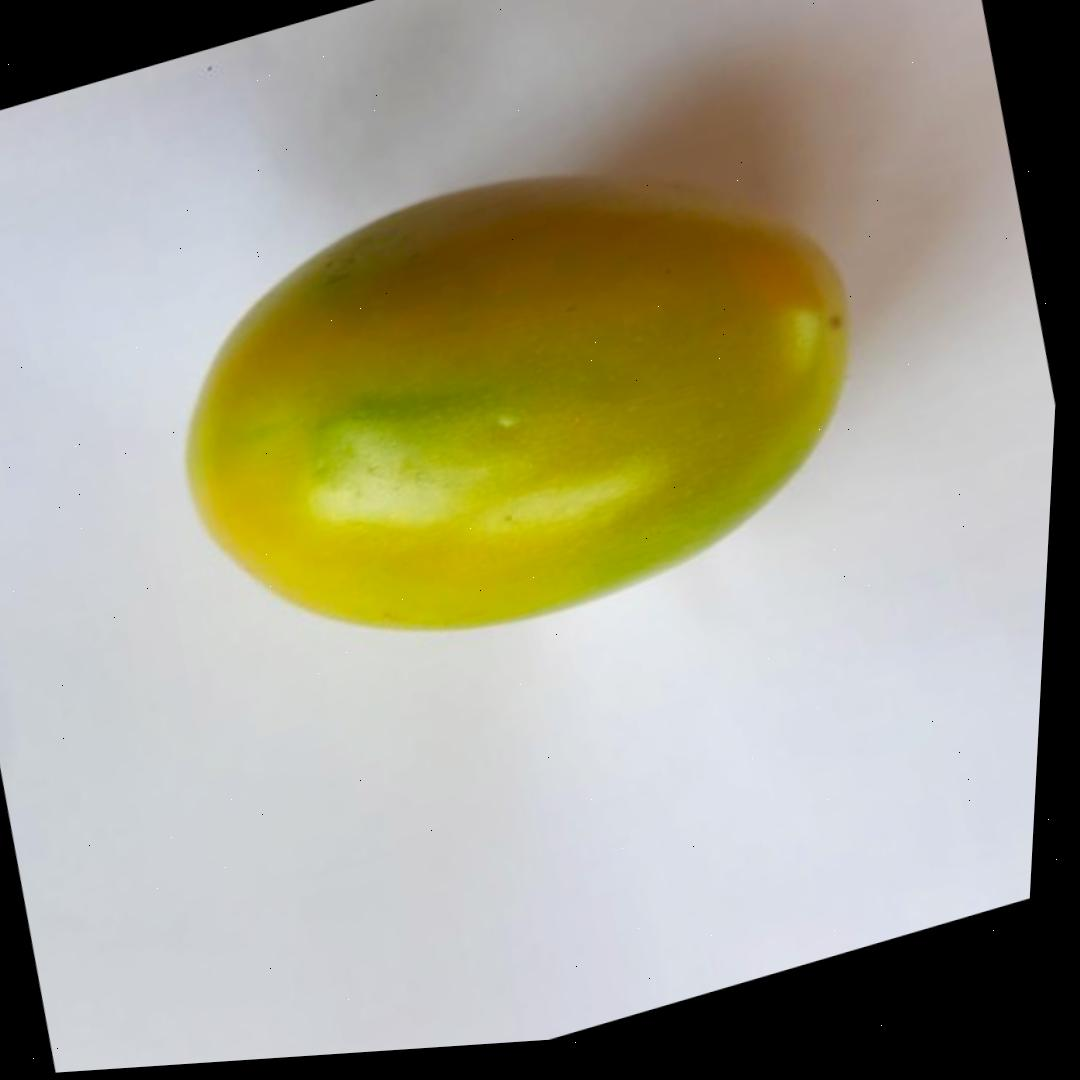setengah_matang: (116, 73, 914, 721)
